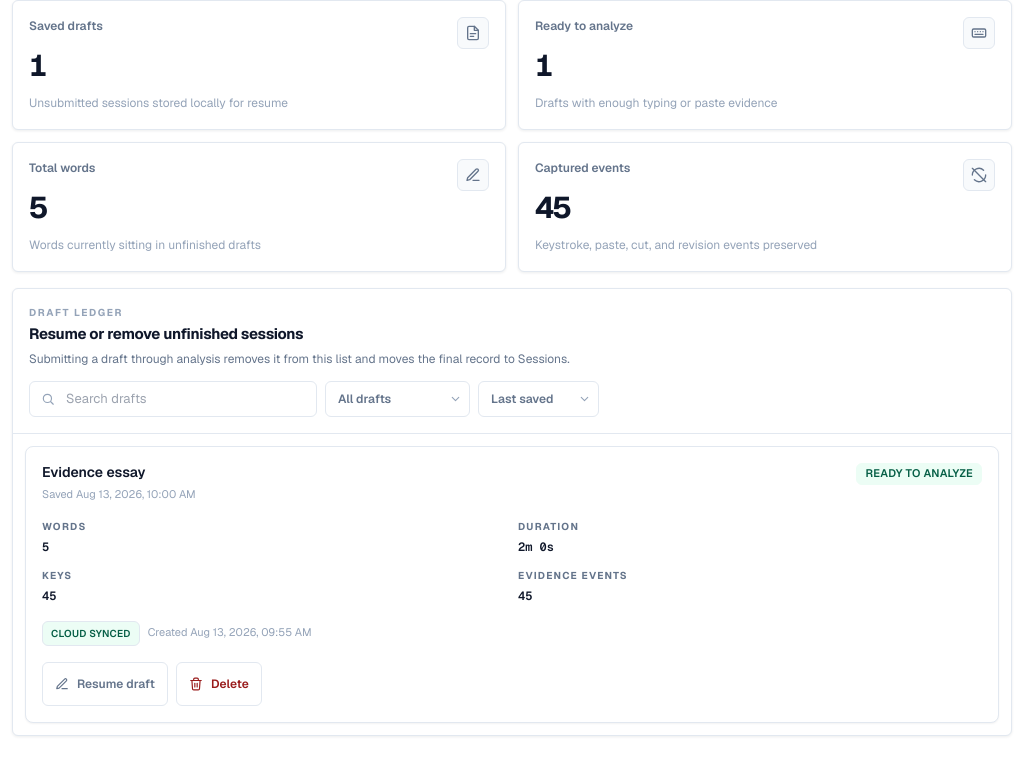
Scenario: DraftsPage › deletes a saved draft, removes it from the ledger, and reports the action
(page scrolled)
Click the button "Delete" at {"x": 219, "y": 684}, box left=176, top=662, right=262, bottom=706
(page scrolled)
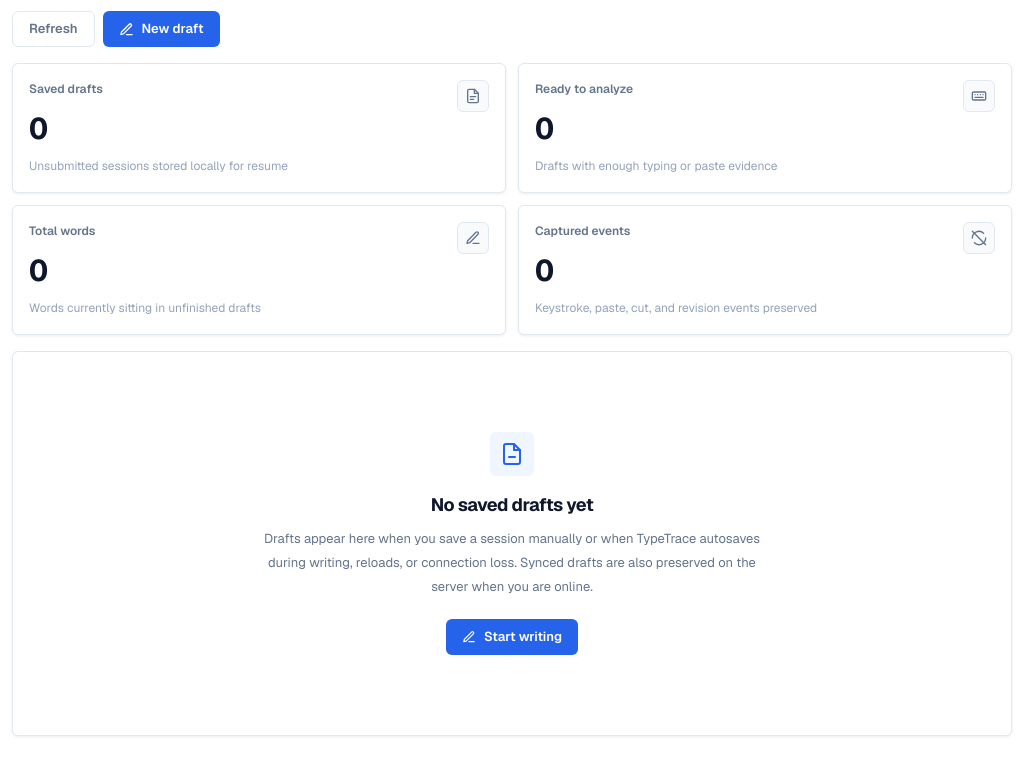
Expected: the heading "Evidence essay" is gone
